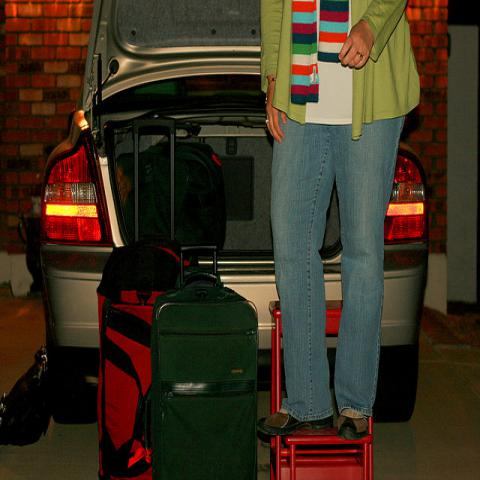car: (39, 0, 430, 424)
